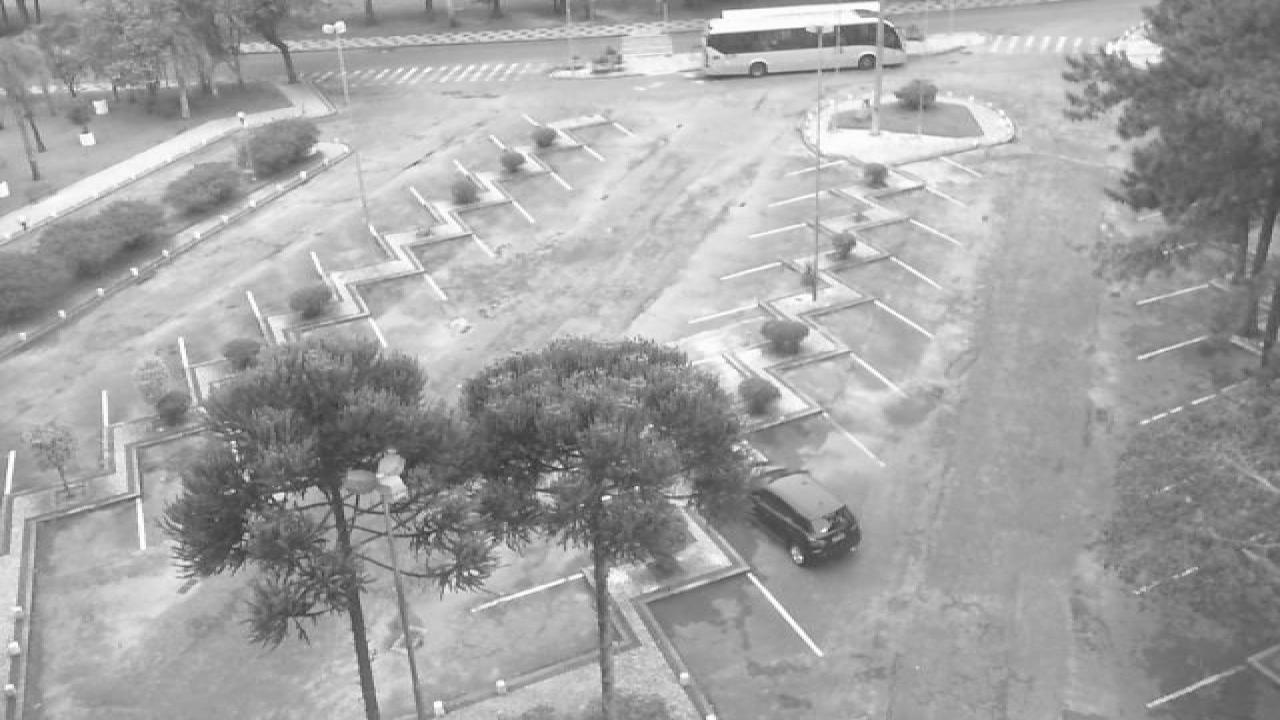Car: (748, 462, 864, 570)
